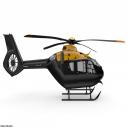helicopter: (4, 35, 127, 105)
